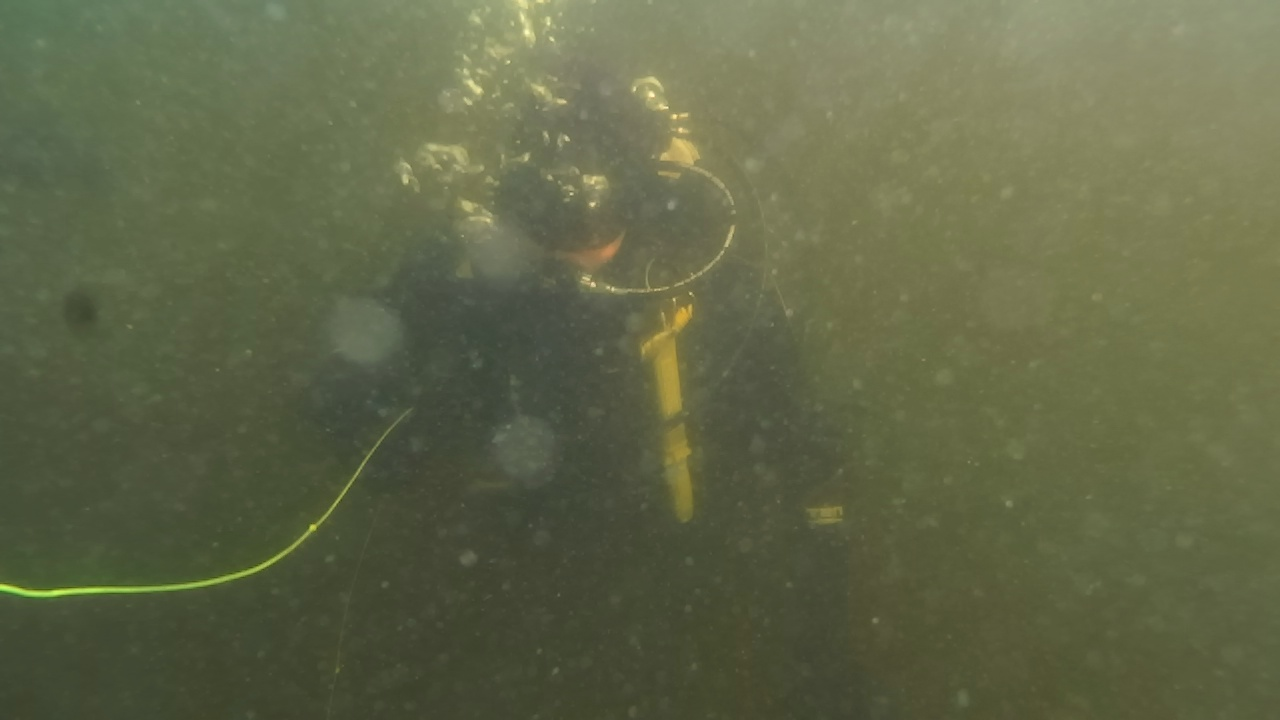Diver: (300, 52, 872, 578)
Head: (500, 140, 642, 300)
